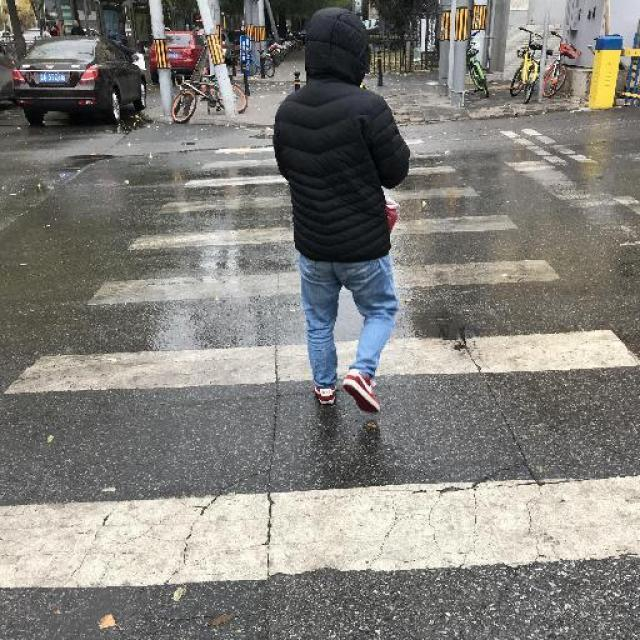crosswalk: (0, 138, 640, 591)
